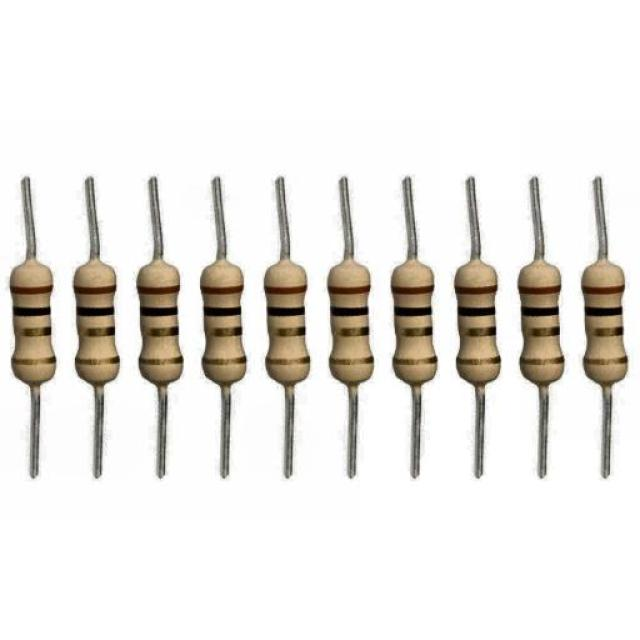Resistor: (4, 210, 69, 439), (509, 199, 576, 419), (66, 207, 128, 438), (384, 203, 446, 432), (129, 209, 193, 430), (447, 199, 511, 420), (193, 207, 256, 428), (257, 207, 320, 427), (318, 207, 378, 437), (572, 201, 631, 413)
